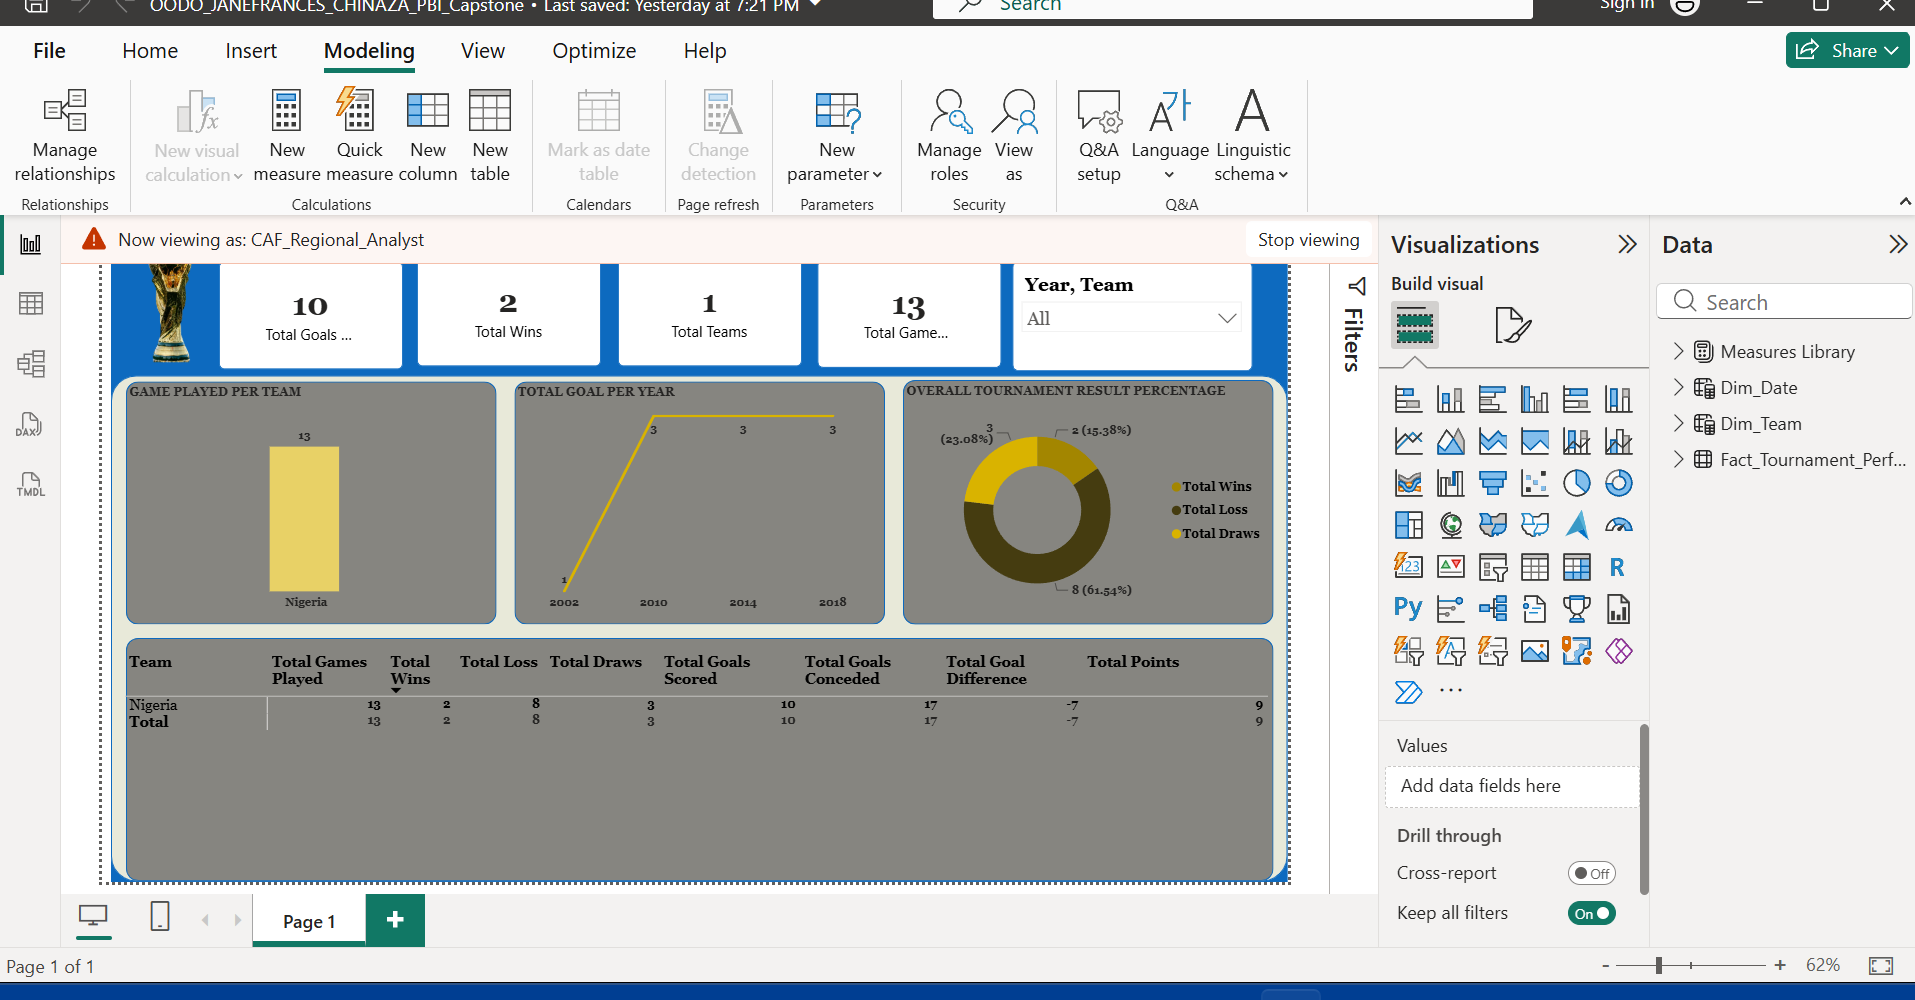

The dashboard page shown, as its layout file describes it:
{"tool":"powerbi","page":{"name":"Page 1","canvas":[1280,720],"ordinal":0},"visuals":[{"type":"shape","title":"FIFA ANALYSIS DASHBOARD","box":[9.4,0,1269.9,720],"z":0},{"type":"group","id":"g1","title":"Group 2","box":[126.3,47,845.2,119.8],"z":0,"group":"g2"},{"type":"shape","box":[9.4,173.9,1269.9,546.1],"z":1000},{"type":"shape","box":[25.9,179.7,399.9,262.3],"z":2000},{"type":"shape","box":[445.3,179.7,399.9,262.3],"z":3000},{"type":"shape","box":[25.9,456.6,1238.7,262.3],"z":4000},{"type":"group","id":"g2","title":"Group 4","box":[126.3,47,845.2,119.8],"z":5000},{"type":"clusteredColumnChart","fields":{"Y":["Sum(Fact_Tournament_Performance.Games Played)"],"Category":["Fact_Tournament_Performance.Team"]},"box":[37.2,213.7,365.9,220.2],"z":6000},{"type":"lineChart","fields":{"Y":["Sum(Fact_Tournament_Performance.Goals For)"],"Category":["Fact_Tournament_Performance.Year"]},"box":[455,202.4,377.3,231.5],"z":7000},{"type":"shape","box":[557.5,47,198.5,116.4],"z":7001,"group":"g6"},{"type":"shape","box":[340.3,47.2,198.5,116.4],"z":7001,"group":"g5"},{"type":"shape","box":[773.1,49.2,198.5,116.4],"z":7001,"group":"g8"},{"type":"shape","box":[983,49.9,259.1,118.2],"z":7001,"group":"g4"},{"type":"shape","box":[126.3,50.4,198.5,116.4],"z":7001,"group":"g3"},{"type":"cardVisual","fields":{"Data":["Measures Library.Total Teams"]},"box":[577.8,47,155,116.4],"z":7014,"group":"g6"},{"type":"cardVisual","fields":{"Data":["Measures Library.Total Wins"]},"box":[360.6,47.2,155,116.4],"z":7014,"group":"g5"},{"type":"cardVisual","fields":{"Data":["Measures Library.Total Games Played"]},"box":[793.4,49.2,155,116.4],"z":7014,"group":"g8"},{"type":"cardVisual","fields":{"Data":["Measures Library.Total Goals Scored"]},"box":[146.6,50.4,155,116.4],"z":7014,"group":"g3"},{"type":"group","id":"g3","title":"Group 1","box":[126.3,50.4,198.5,116.4],"z":8000,"group":"g1"},{"type":"pivotTable","fields":{"Rows":["Dim_Team.Team"],"Values":["Measures Library.Total Games Played","Measures Library.Total Wins","Measures Library.Total Loss","Measures Library.Total Draws","Measures Library.Total Goals Scored","Measures Library.Total Goals Conceded","Measures Library.Total Goal Difference","Measures Library.Total Points"]},"box":[19.4,468,1245.2,229.9],"z":8000},{"type":"image","box":[0,13,147.3,149],"z":9000},{"type":"group","id":"g4","title":"Group 1","box":[983,49.9,259.1,118.2],"z":9000,"group":"g7"},{"type":"group","id":"g5","title":"Group 1","box":[340.3,47.2,198.5,116.4],"z":10000,"group":"g1"},{"type":"shape","box":[864.7,178.1,399.9,263.9],"z":10000},{"type":"group","id":"g6","title":"Group 1","box":[557.5,47,198.5,116.4],"z":11000,"group":"g1"},{"type":"group","id":"g7","title":"Group 3","box":[983,49.9,259.1,118.2],"z":11000},{"type":"group","id":"g8","title":"Group 1","box":[773.1,49.2,198.5,116.4],"z":12000,"group":"g1"},{"type":"donutChart","fields":{"Y":["Measures Library.Total Wins","Measures Library.Total Loss","Measures Library.Total Draws"]},"box":[859.8,202.4,404.8,231.5],"z":12000},{"type":"slicer","fields":{"Values":["Fact_Tournament_Performance.Year","Fact_Tournament_Performance.Team"]},"box":[983,58.2,257.5,108.5],"z":14000,"group":"g7"}]}

Visuals, with their boxes on the page's 1280x720 design canvas (x1, y1, x2, y2). These are canvas units, not pixel positions in the 1915x1000 screenshot, which may show the page scaled, cropped or inside an application window:
"FIFA ANALYSIS DASHBOARD" shape: pyautogui.locateOnScreen(9, 0, 1279, 720)
"Group 2" group: pyautogui.locateOnScreen(126, 47, 972, 167)
shape: pyautogui.locateOnScreen(9, 174, 1279, 720)
shape: pyautogui.locateOnScreen(26, 180, 426, 442)
shape: pyautogui.locateOnScreen(445, 180, 845, 442)
shape: pyautogui.locateOnScreen(26, 457, 1265, 719)
"Group 4" group: pyautogui.locateOnScreen(126, 47, 972, 167)
clusteredColumnChart - Sum(Fact_Tournament_Performance.Games Played) x Fact_Tournament_Performance.Team: pyautogui.locateOnScreen(37, 214, 403, 434)
lineChart - Sum(Fact_Tournament_Performance.Goals For) x Fact_Tournament_Performance.Year: pyautogui.locateOnScreen(455, 202, 832, 434)
shape: pyautogui.locateOnScreen(558, 47, 756, 163)
shape: pyautogui.locateOnScreen(340, 47, 539, 164)
shape: pyautogui.locateOnScreen(773, 49, 972, 166)
shape: pyautogui.locateOnScreen(983, 50, 1242, 168)
shape: pyautogui.locateOnScreen(126, 50, 325, 167)
cardVisual - Measures Library.Total Teams: pyautogui.locateOnScreen(578, 47, 733, 163)
cardVisual - Measures Library.Total Wins: pyautogui.locateOnScreen(361, 47, 516, 164)
cardVisual - Measures Library.Total Games Played: pyautogui.locateOnScreen(793, 49, 948, 166)
cardVisual - Measures Library.Total Goals Scored: pyautogui.locateOnScreen(147, 50, 302, 167)
"Group 1" group: pyautogui.locateOnScreen(126, 50, 325, 167)
pivotTable - Dim_Team.Team x Measures Library.Total Games Played: pyautogui.locateOnScreen(19, 468, 1265, 698)
image: pyautogui.locateOnScreen(0, 13, 147, 162)
"Group 1" group: pyautogui.locateOnScreen(983, 50, 1242, 168)
"Group 1" group: pyautogui.locateOnScreen(340, 47, 539, 164)
shape: pyautogui.locateOnScreen(865, 178, 1265, 442)
"Group 1" group: pyautogui.locateOnScreen(558, 47, 756, 163)
"Group 3" group: pyautogui.locateOnScreen(983, 50, 1242, 168)
"Group 1" group: pyautogui.locateOnScreen(773, 49, 972, 166)
donutChart - Measures Library.Total Wins x Measures Library.Total Loss: pyautogui.locateOnScreen(860, 202, 1265, 434)
slicer - Fact_Tournament_Performance.Year x Fact_Tournament_Performance.Team: pyautogui.locateOnScreen(983, 58, 1240, 167)
